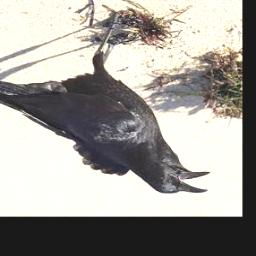Crow: (0, 8, 211, 195)
